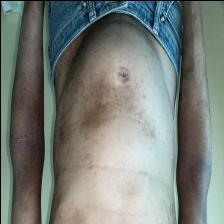DA: (54, 79, 94, 165), (127, 92, 158, 146)
